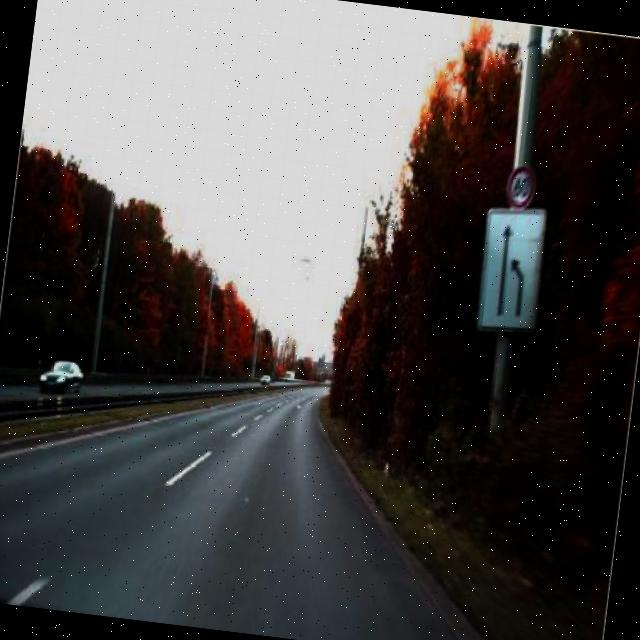Ograniczenie predkosci do 60: (501, 158, 540, 216)
